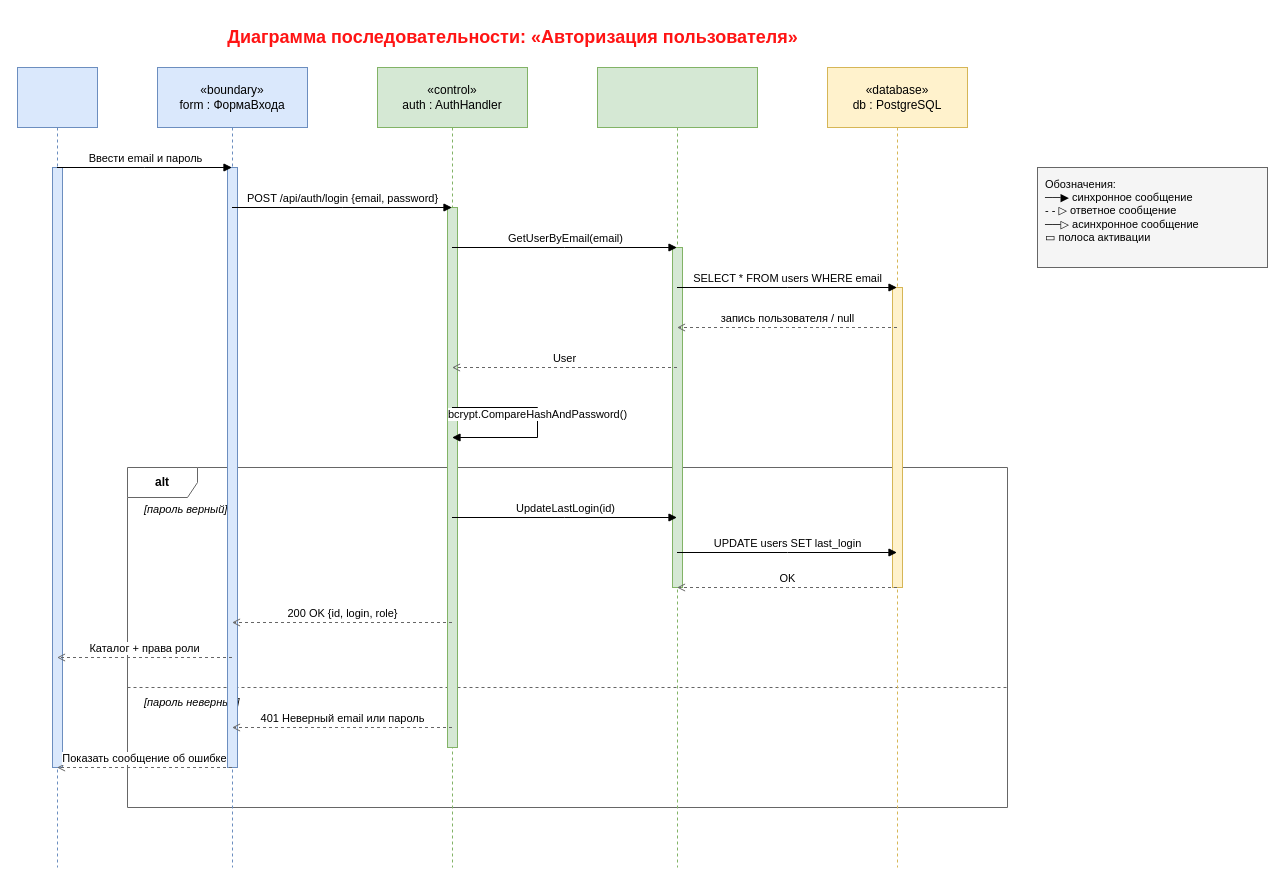
Image size: 1285x885. Some labels were removed from this diagram. Here are the shapes that lost their labels. From the top down, the box of each, then its label:
(16, 66, 98, 868): «actor» : Пользователь
(596, 66, 758, 868): «entity» repo : UserRepository
